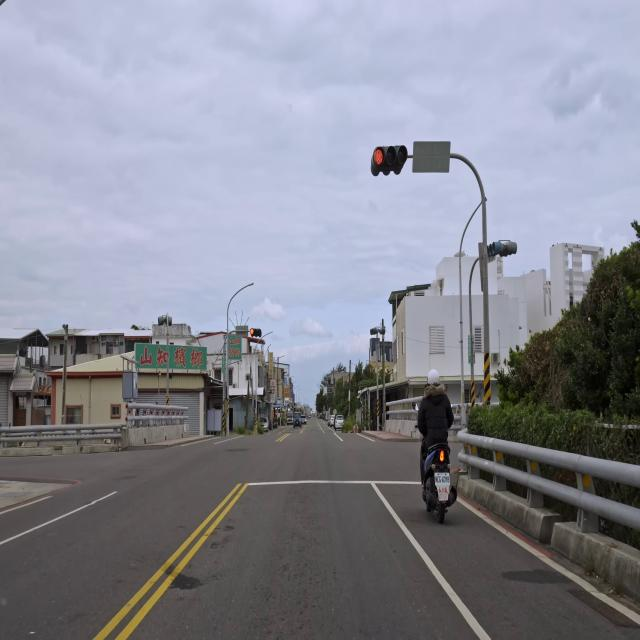red light: (371, 145, 406, 176), (250, 328, 262, 338)
